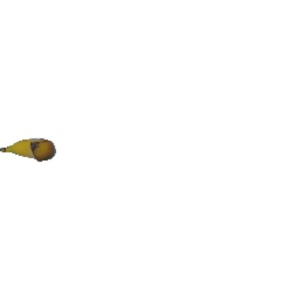banana: (2, 131, 59, 172)
